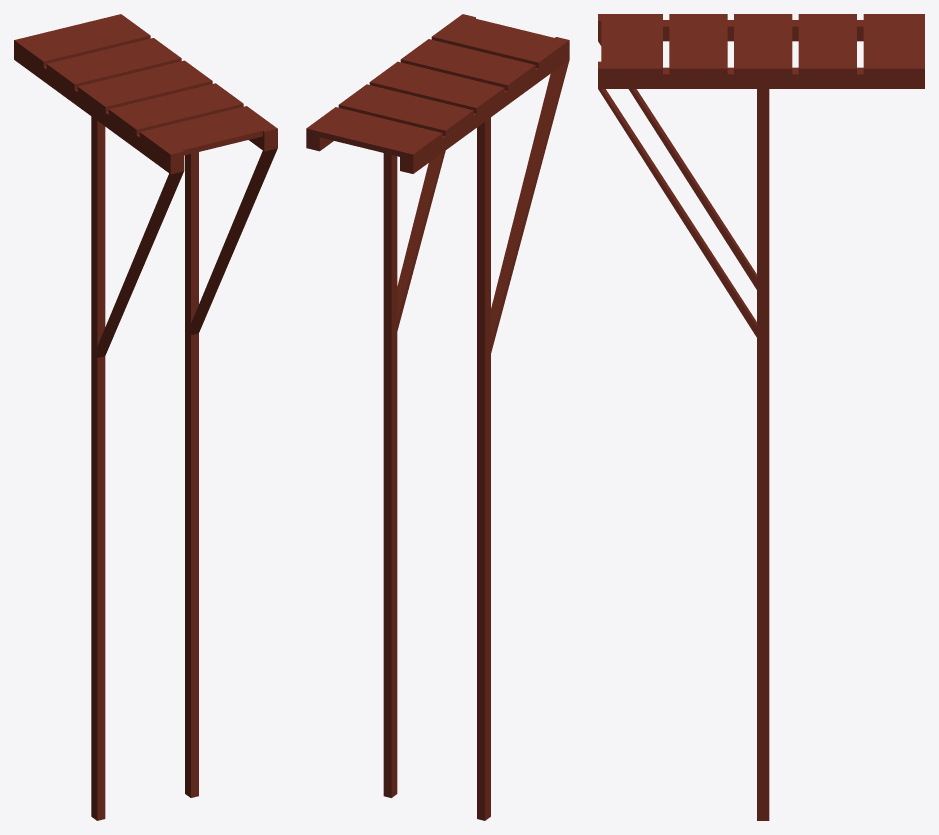
Rendered from Bridge.fbx.
The picture shows the model from 3 angles, left to right: view 1: azimuth 30°, elevation 25°; view 2: azimuth 150°, elevation 25°; view 3: azimuth 270°, elevation 25°; orthographic projection. The views are drawn at different scales.
Parts seen in each view (by area): view 1: Bridge; view 2: Bridge; view 3: Bridge.
Boxes of the visible parts, left/top/right/bottom form: Bridge: left=14, top=14, right=277, bottom=820; Bridge: left=306, top=14, right=569, bottom=820; Bridge: left=598, top=14, right=924, bottom=820.
Size of the model in its own units: 3.98 by 25.7 by 10.1.
